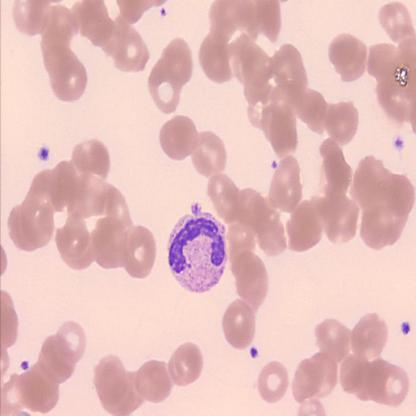Band Neutrophil: (165, 200, 229, 296)
